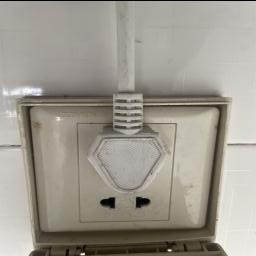outlet: (19, 88, 228, 240)
